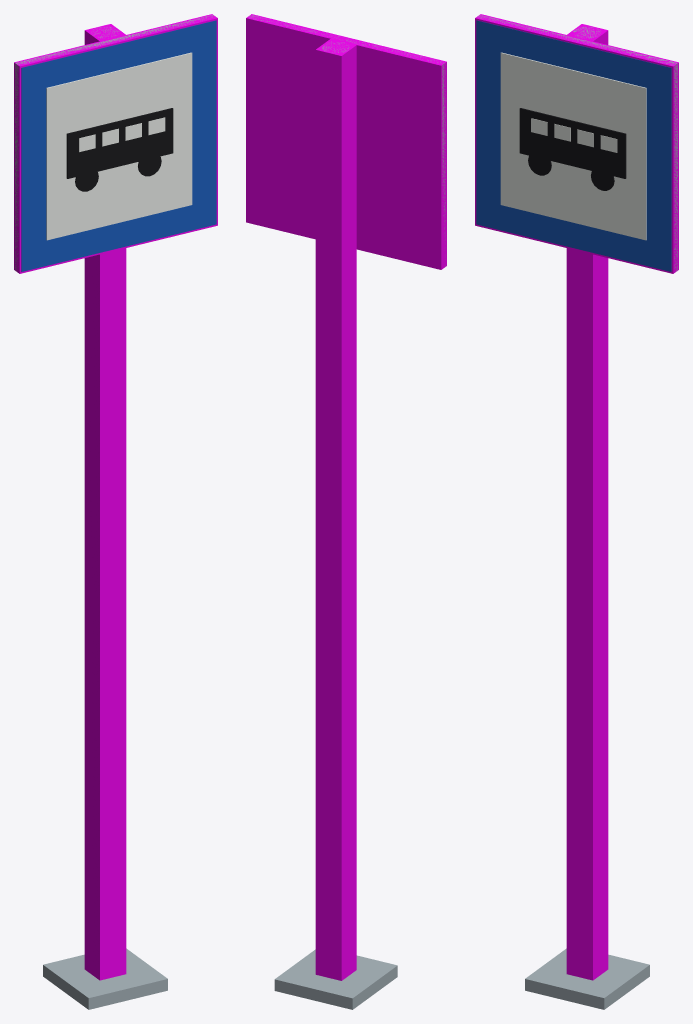
The model's file is PT_Sign_5_16_BusStop.fbx.
3 views of the same model, side by side, from view 1: azimuth 30°, elevation 25°; view 2: azimuth 150°, elevation 25°; view 3: azimuth 330°, elevation 25° (orthographic).
Visible parts, largest first — view 1: COL_Post, Face_Blue, Face_White, Pictogram, Post, COL_Plate, Plate_Back, Pictogram_Windows; view 2: COL_Post, COL_Plate, Post, Plate_Back; view 3: COL_Post, Face_Blue, Face_White, Pictogram, Post, COL_Plate, Plate_Back, Pictogram_Windows.
Boxes of the visible parts, x1=… form: COL_Post: x1=84, y1=24, x2=126, y2=980; Face_Blue: x1=21, y1=20, x2=216, y2=271; Face_White: x1=46, y1=52, x2=192, y2=240; Pictogram: x1=66, y1=108, x2=173, y2=191; Post: x1=43, y1=27, x2=167, y2=1009; COL_Plate: x1=14, y1=14, x2=217, y2=273; Plate_Back: x1=15, y1=15, x2=216, y2=271; Pictogram_Windows: x1=79, y1=117, x2=165, y2=152; COL_Post: x1=315, y1=39, x2=356, y2=980; COL_Plate: x1=246, y1=14, x2=446, y2=269; Post: x1=274, y1=41, x2=397, y2=1009; Plate_Back: x1=249, y1=15, x2=445, y2=265; COL_Post: x1=566, y1=24, x2=608, y2=980; Face_Blue: x1=476, y1=20, x2=671, y2=271; Face_White: x1=500, y1=52, x2=646, y2=240; Pictogram: x1=519, y1=108, x2=626, y2=190; Post: x1=525, y1=27, x2=649, y2=1009; COL_Plate: x1=475, y1=14, x2=678, y2=273; Plate_Back: x1=478, y1=15, x2=677, y2=271; Pictogram_Windows: x1=531, y1=118, x2=617, y2=152.
Size of the model in its own units: 0.6 by 2.75 by 0.24.
